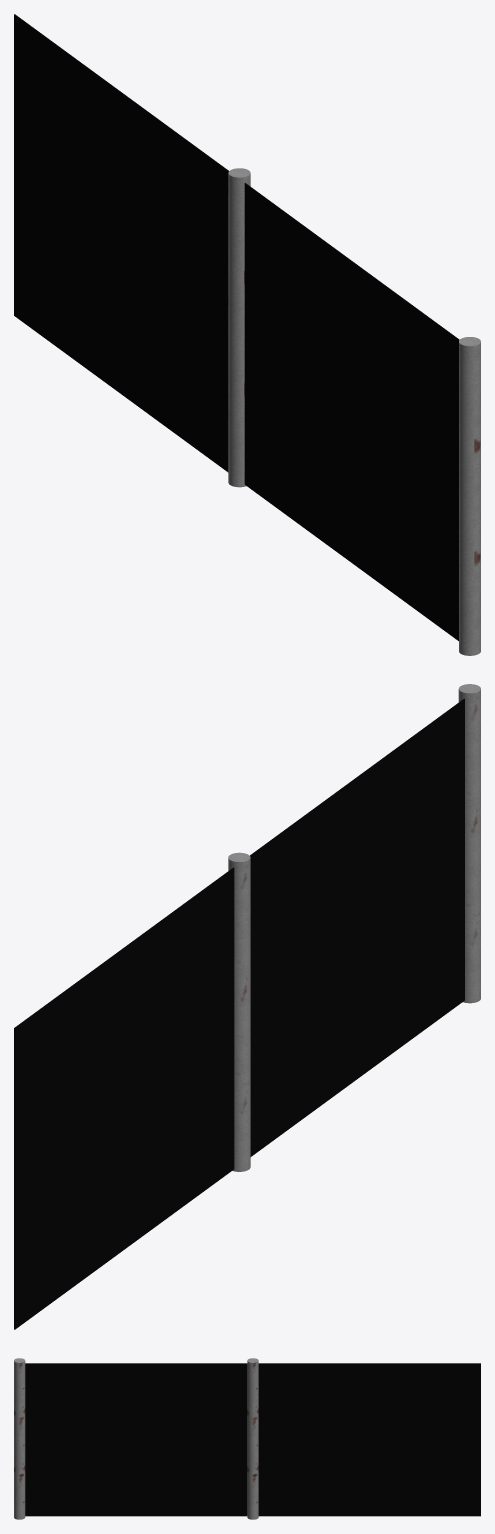
Rendered from chain_link_fence_-_a_classic_landscape_element.glb.
3 renders of one model, top to bottom at view 1: azimuth 30°, elevation 25°; view 2: azimuth 150°, elevation 25°; view 3: azimuth 270°, elevation 25°, orthographic. The views are drawn at different scales.
Visible parts, largest first — view 1: Plane, Plane.001; view 2: Plane.001, Plane; view 3: Plane.001, Plane.
Boxes of the visible parts, bbox=[...] form: Plane: bbox=[244, 183, 480, 655]; Plane.001: bbox=[14, 14, 250, 487]; Plane.001: bbox=[14, 852, 250, 1329]; Plane: bbox=[250, 684, 480, 1156]; Plane.001: bbox=[247, 1358, 480, 1519]; Plane: bbox=[14, 1358, 247, 1519].
Size of the model in its own units: 0.1 by 1.54 by 4.16.
Materials: 2 (2 with a texture image).
